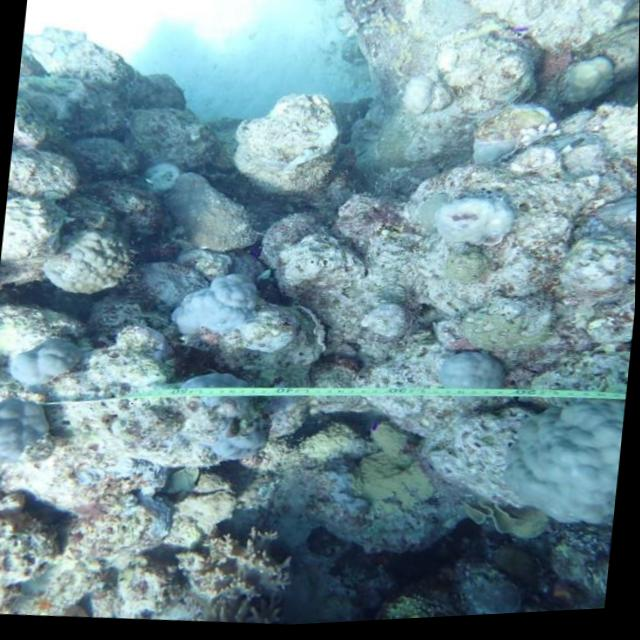Bleached Coral: (475, 373, 629, 542), (152, 255, 283, 367), (0, 326, 102, 469), (402, 352, 517, 409)
